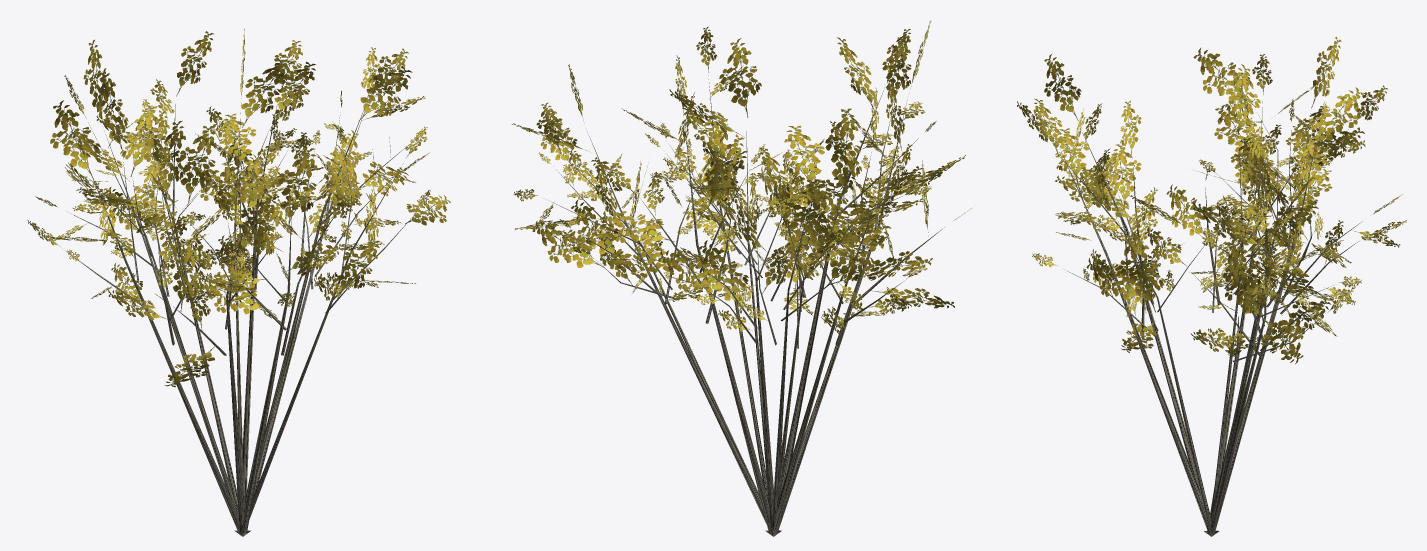
Rendered from tree_LOD2.glb.
3 views of the same model, side by side, from view 1: azimuth 30°, elevation 25°; view 2: azimuth 150°, elevation 25°; view 3: azimuth 270°, elevation 25° (orthographic). The views are drawn at different scales.
Parts seen in each view (by area): view 1: Leaves_LOD2, Branches_LOD2; view 2: Leaves_LOD2, Branches_LOD2; view 3: Leaves_LOD2, Branches_LOD2.
Boxes of the visible parts, left/top/right/bottom form: Leaves_LOD2: left=27, top=28, right=450, bottom=387; Branches_LOD2: left=66, top=97, right=413, bottom=536; Leaves_LOD2: left=511, top=21, right=971, bottom=333; Branches_LOD2: left=544, top=75, right=944, bottom=536; Leaves_LOD2: left=1017, top=36, right=1406, bottom=364; Branches_LOD2: left=1058, top=101, right=1362, bottom=536.
Size of the model in its own units: 28.94 by 32.34 by 24.44.
2 materials, 2 textured.
